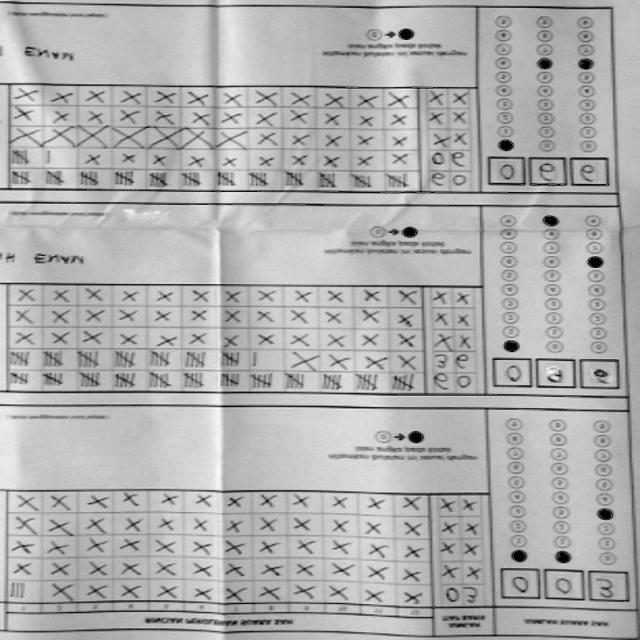Suara: (484, 153, 615, 193), (498, 566, 628, 606), (490, 354, 620, 394)
